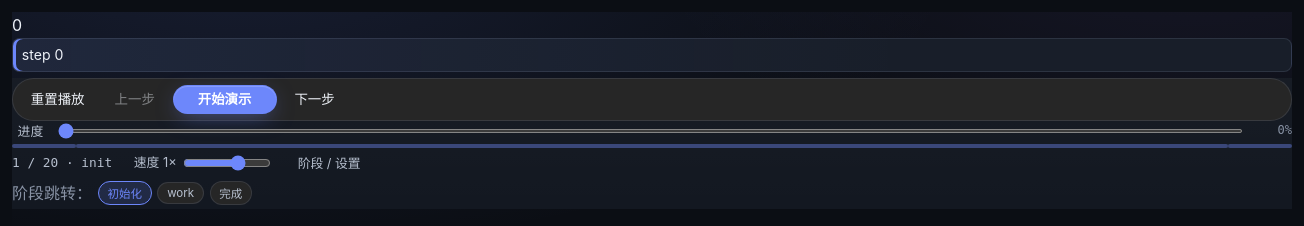
Scenario: A1 credible playback — no auto-pause from cursor feedback › plays and advances at least 5 steps without auto-pause
The image size is (1304, 226).
Click the button with test id "play-btn" at (225, 100), box 173,85 -> 277,114
Wait 4800 ms
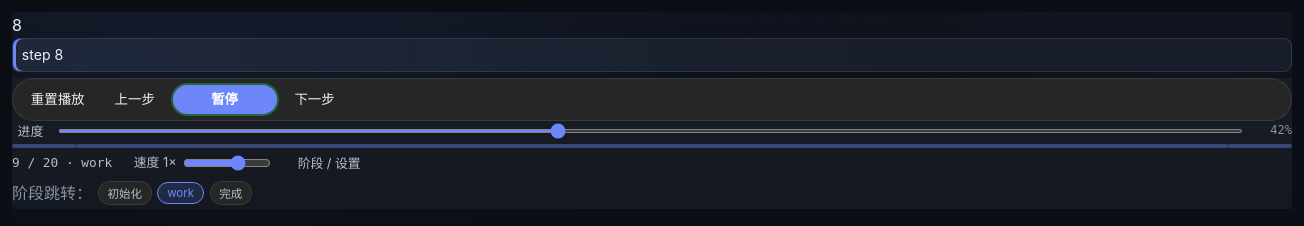
Result: the button with test id "play-btn" reads "暂停" at 173,85 -> 277,114
